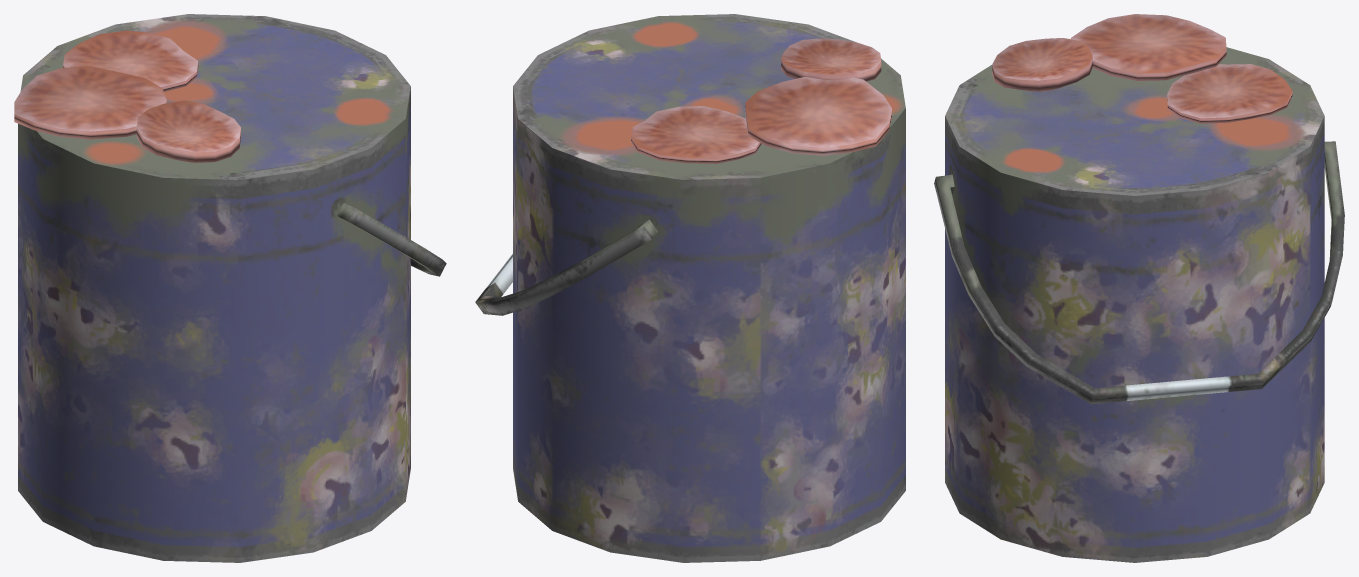
3 renders of one model, left to right at view 1: azimuth 30°, elevation 25°; view 2: azimuth 150°, elevation 25°; view 3: azimuth 270°, elevation 25°, orthographic. The views are drawn at different scales.
Parts seen in each view (by area): view 1: pCylinder16__Can02; view 2: pCylinder16__Can02; view 3: pCylinder16__Can02.
Part boxes in pixels (x1,y1,x2,y2): pCylinder16__Can02: (14, 14, 446, 562); pCylinder16__Can02: (475, 14, 905, 562); pCylinder16__Can02: (934, 14, 1344, 562).
Size of the model in its own units: 0.8639 by 0.8841 by 0.8378.
Materials: 1 (1 with a texture image).
